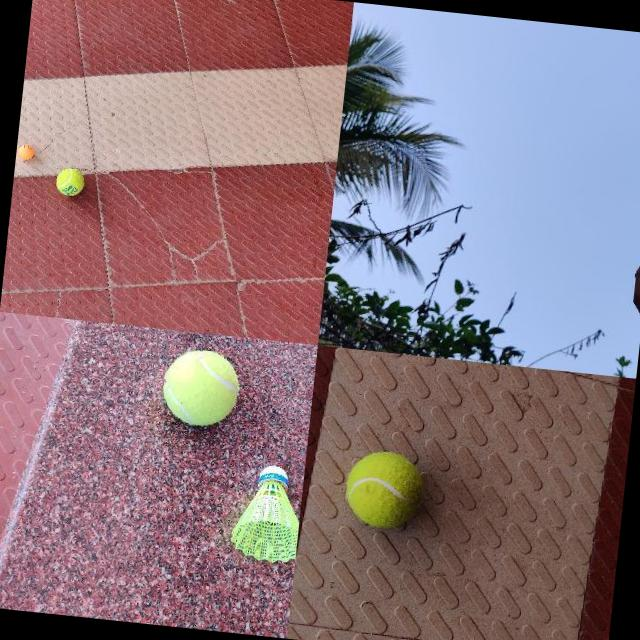Tennis Ball: (342, 446, 426, 530), (160, 346, 242, 428), (54, 166, 85, 197)
